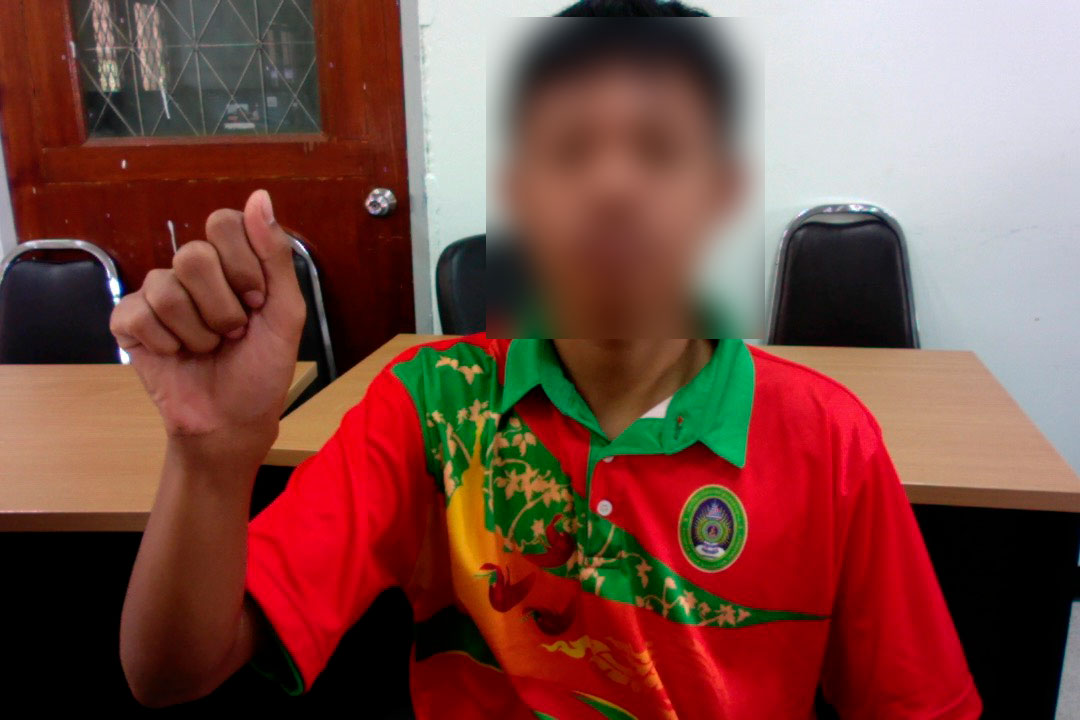or: (99, 175, 312, 449)
